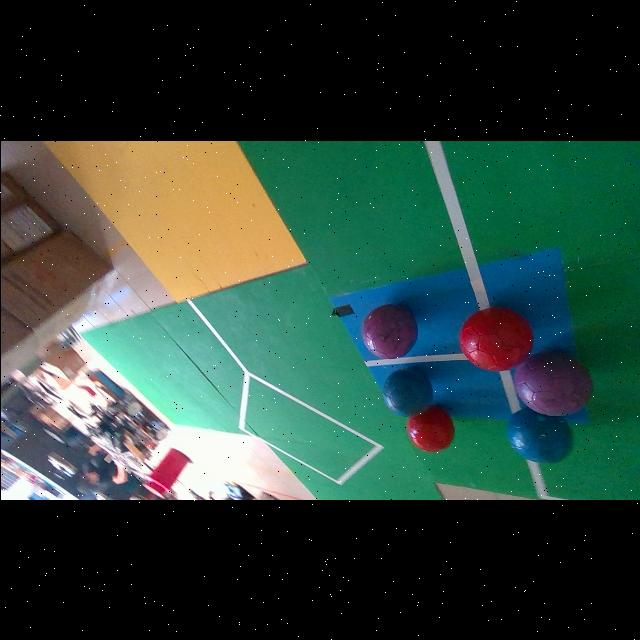B: (505, 408, 572, 462), (382, 368, 432, 417)
P: (513, 351, 591, 415), (361, 304, 418, 359)
R: (458, 307, 533, 369), (406, 407, 453, 452)
